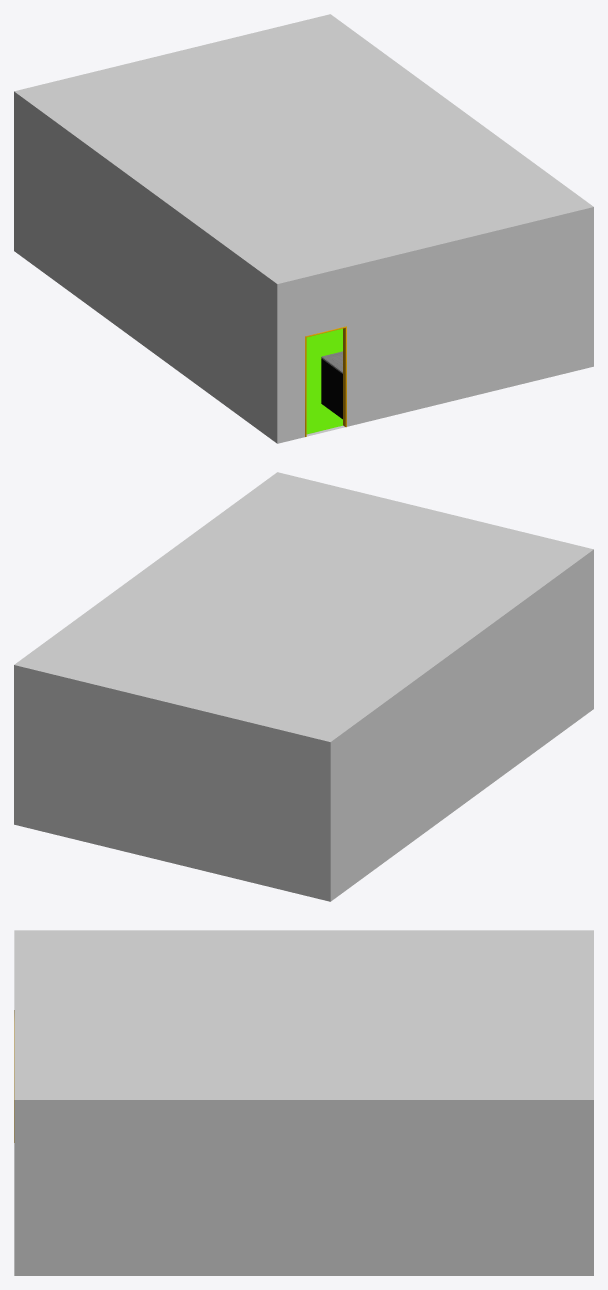
The model's file is Escenario.fbx.
3 renders of one model, top to bottom at view 1: azimuth 30°, elevation 25°; view 2: azimuth 150°, elevation 25°; view 3: azimuth 270°, elevation 25°, orthographic. The views are drawn at different scales.
Visible parts, largest first — view 1: Sala, Mueble; view 2: Sala; view 3: Sala.
Boxes of the visible parts, bbox=[...] form: Sala: bbox=[14, 14, 593, 443]; Mueble: bbox=[321, 358, 342, 419]; Sala: bbox=[14, 472, 593, 901]; Sala: bbox=[14, 930, 593, 1275].
Size of the model in its own units: 6.39 by 3.11 by 9.22.
